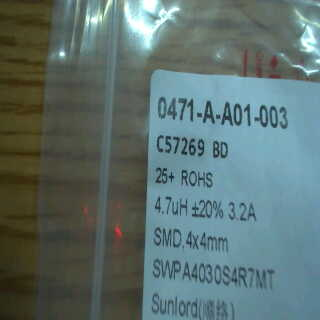4.7uH: (152, 195, 191, 217)
